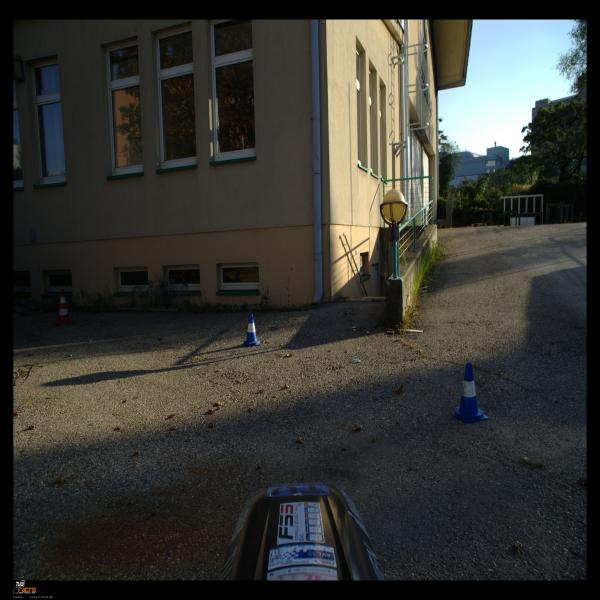blue_cone: (451, 363, 488, 423), (244, 314, 260, 347)
large_orange_cone: (57, 289, 73, 325)
